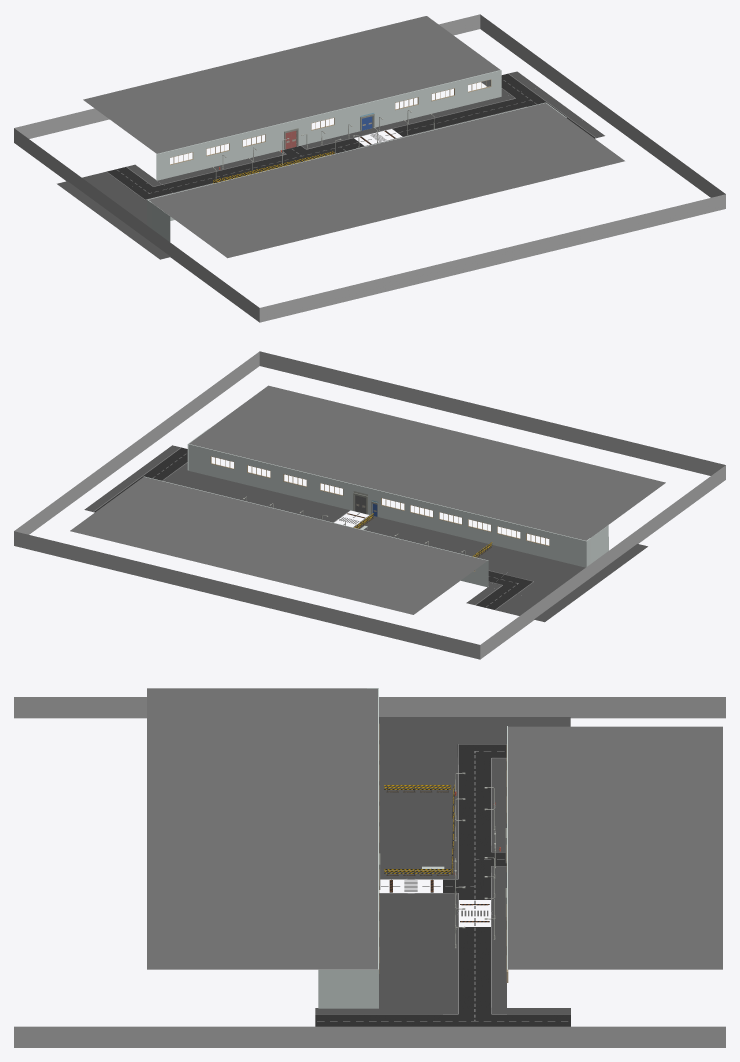
The model's file is factory.gltf.
The picture shows the model from 3 angles, top to bottom: view 1: azimuth 30°, elevation 25°; view 2: azimuth 150°, elevation 25°; view 3: azimuth 270°, elevation 25°; orthographic projection. The views are drawn at different scales.
Parts seen in each view (by area): view 1: SM_Ground_1212, SM_Ground_1223.002, Cerca, SM_Road_125.004, SM_Road_107.011, SM_Wall_Outer_Window_B_804.002, SM_Wall_Outer_Window_B_804.003, SM_Wall_Outer_Window_B_803.002, SM_Road_154.003, SM_Wall_Outer_Window_B_812.002, SM_Wall_Outer_Window_B_805.002, SM_Road_154.001 (+14 smaller); view 2: SM_Ground_1212, SM_Ground_1223.002, Cerca, SM_Road_125.004, SM_Road_125.003, SM_Road_107.011, SM_Road_154.001, SM_Wall_Outer_189, SM_Wall_Outer_Window_B_805.001, SM_Wall_Outer_Window_B_813, SM_Wall_Outer_Window_B_804.001, SM_Wall_Outer_Window_B_803.003 (+10 smaller); view 3: SM_Ground_1212, SM_Ground_1223.002, Cerca, SM_Road_125.004, SM_Road_125.003, SM_Road_107.003, SM_Road_107.004, SM_Road_154.001, SM_Road_107.005, SM_Road_107.009, SM_Road_154.002, SM_Road_107.007 (+9 smaller).
Part boxes in pixels (x1=…): SM_Ground_1212: x1=149, y1=103, x2=624, y2=258; SM_Ground_1223.002: x1=83, y1=16, x2=500, y2=153; Cerca: x1=14, y1=14, x2=725, y2=322; SM_Road_125.004: x1=57, y1=174, x2=170, y2=259; SM_Road_107.011: x1=97, y1=164, x2=156, y2=189; SM_Wall_Outer_Window_B_804.002: x1=392, y1=89, x2=421, y2=123; SM_Wall_Outer_Window_B_804.003: x1=428, y1=80, x2=457, y2=114; SM_Wall_Outer_Window_B_803.002: x1=308, y1=110, x2=337, y2=143; SM_Road_154.003: x1=501, y1=87, x2=560, y2=108; SM_Wall_Outer_Window_B_812.002: x1=203, y1=135, x2=232, y2=169; SM_Wall_Outer_Window_B_805.002: x1=239, y1=126, x2=268, y2=160; SM_Road_154.001: x1=119, y1=181, x2=173, y2=206; SM_Ground_1212: x1=189, y1=385, x2=665, y2=540; SM_Ground_1223.002: x1=70, y1=477, x2=487, y2=614; Cerca: x1=14, y1=351, x2=725, y2=659; SM_Road_125.004: x1=364, y1=517, x2=647, y2=622; SM_Road_125.003: x1=172, y1=471, x2=340, y2=520; SM_Road_107.011: x1=466, y1=587, x2=525, y2=612; SM_Road_154.001: x1=489, y1=571, x2=547, y2=596; SM_Wall_Outer_189: x1=552, y1=533, x2=579, y2=565; SM_Wall_Outer_Window_B_805.001: x1=280, y1=466, x2=309, y2=500; SM_Wall_Outer_Window_B_813: x1=523, y1=525, x2=552, y2=559; SM_Wall_Outer_Window_B_804.001: x1=244, y1=457, x2=273, y2=491; SM_Wall_Outer_Window_B_803.003: x1=378, y1=490, x2=407, y2=523; SM_Ground_1212: x1=147, y1=688, x2=377, y2=969; SM_Ground_1223.002: x1=508, y1=726, x2=722, y2=969; Cerca: x1=14, y1=697, x2=725, y2=1047; SM_Road_125.004: x1=379, y1=717, x2=570, y2=872; SM_Road_125.003: x1=379, y1=900, x2=442, y2=1007; SM_Road_107.003: x1=443, y1=953, x2=506, y2=980; SM_Road_107.004: x1=443, y1=980, x2=506, y2=1007; SM_Road_154.001: x1=443, y1=738, x2=506, y2=764; SM_Road_107.005: x1=443, y1=926, x2=506, y2=953; SM_Road_107.009: x1=443, y1=764, x2=506, y2=791; SM_Road_154.002: x1=443, y1=872, x2=506, y2=899; SM_Road_107.007: x1=443, y1=791, x2=506, y2=818.
Size of the model in its own units: 131 by 7.2 by 117.
14 materials, 7 textured.
